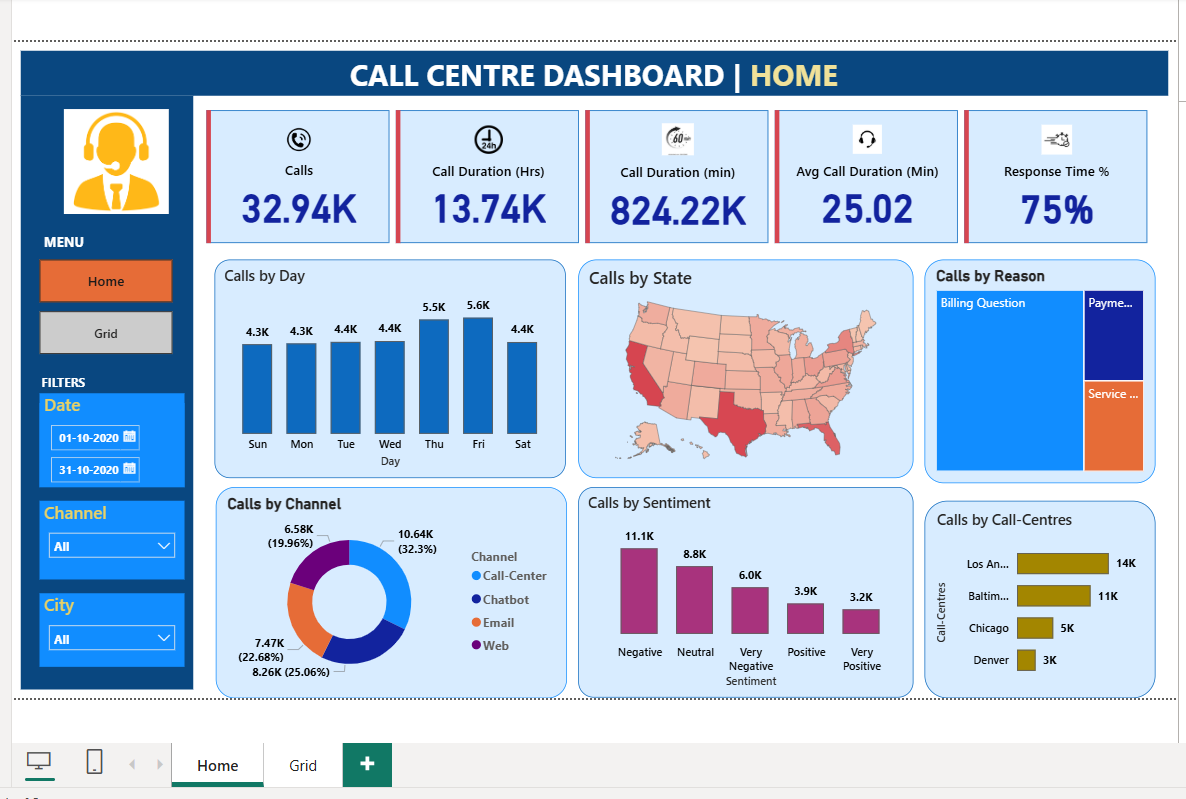

What the dashboard file says about the page in this screenshot:
{"tool":"powerbi","page":{"name":"Home","canvas":[1280,720],"ordinal":0},"visuals":[{"type":"shape","box":[9.6,9.6,1259.7,49.4],"z":0},{"type":"shape","box":[9.6,59,189.4,651.8],"z":1000},{"type":"cardVisual","fields":{"Data":["Call Center_Call Center.Total Calls","Call Center_Call Center.Total Call Duration","Call Center_Call Center.Total Call Duration (min)","Call Center_Call Center.Avg Call Duration (Min)","Call Center_Call Center.Response Time %"]},"box":[208.6,70,1047,156.4],"z":2000},{"type":"textbox","box":[338.9,9.6,599.7,68.6],"z":3000},{"type":"columnChart","title":"Calls by Day","fields":{"Category":["Date Table.Day"],"Y":["Call Center_Call Center.Total Calls"]},"box":[222.3,238.8,385.6,240.1],"z":4000},{"type":"shapeMap","title":"Calls by State","fields":{"Category":["Call Center_Call Center.State"],"Value":["Call Center_Call Center.Total Calls"]},"box":[621.6,238.8,367.8,240.1],"z":5000},{"type":"treemap","title":"Calls by Reason","fields":{"Group":["Call Center_Call Center.Reason"],"Values":["Call Center_Call Center.Total Calls"]},"box":[1001.7,238.8,253.9,245.6],"z":6000},{"type":"donutChart","title":"Calls by Channel","fields":{"Category":["Call Center_Call Center.Channel"],"Y":["Call Center_Call Center.Total Calls"]},"box":[223.7,488.5,385.6,231.9],"z":7000},{"type":"columnChart","title":"Calls by Sentiment","fields":{"Category":["Call Center_Call Center.Sentiment"],"Y":["Call Center_Call Center.Total Calls"]},"box":[622,489,368,231],"z":8000},{"type":"clusteredBarChart","title":"Calls by Call-Centres","fields":{"Category":["Call Center_Call Center.Call-Centres City"],"Y":["Call Center_Call Center.Total Calls"]},"box":[1001.7,503.6,253.9,216.8],"z":9000},{"type":"slicer","title":"Date","fields":{"Values":["Date Table.Date"]},"box":[30.2,396.6,159.2,91.9],"z":10000},{"type":"slicer","title":"Channel","fields":{"Values":["Call Center_Call Center.Channel"]},"box":[30.2,503.6,159.2,86.4],"z":11000},{"type":"slicer","title":"City","fields":{"Values":["Call Center_Call Center.City"]},"box":[30.2,605.1,159.2,81],"z":12000},{"type":"image","box":[52.1,28.8,124.9,204.5],"z":13000},{"type":"pageNavigator","box":[30.2,238.8,146.8,104.3],"z":14000},{"type":"textbox","box":[30.6,204.2,112.5,34.2],"z":15000},{"type":"textbox","box":[27.4,359.5,171.5,37],"z":16000},{"type":"slicer","title":"Date","fields":{"Values":["Date Table.Date"]},"box":[30.2,385.6,159.2,102.9],"z":17000}]}

Visuals, with their boxes on the page's 1280x720 design canvas (x1, y1, x2, y2). These are canvas units, not pixel positions in the 1186x799 screenshot, which may show the page scaled, cropped or inside an application window:
shape: {"x1": 10, "y1": 10, "x2": 1269, "y2": 59}
shape: {"x1": 10, "y1": 59, "x2": 199, "y2": 711}
cardVisual - Call Center_Call Center.Total Calls x Call Center_Call Center.Total Call Duration: {"x1": 209, "y1": 70, "x2": 1256, "y2": 226}
textbox: {"x1": 339, "y1": 10, "x2": 939, "y2": 78}
"Calls by Day" columnChart: {"x1": 222, "y1": 239, "x2": 608, "y2": 479}
"Calls by State" shapeMap: {"x1": 622, "y1": 239, "x2": 989, "y2": 479}
"Calls by Reason" treemap: {"x1": 1002, "y1": 239, "x2": 1256, "y2": 484}
"Calls by Channel" donutChart: {"x1": 224, "y1": 488, "x2": 609, "y2": 720}
"Calls by Sentiment" columnChart: {"x1": 622, "y1": 489, "x2": 990, "y2": 720}
"Calls by Call-Centres" clusteredBarChart: {"x1": 1002, "y1": 504, "x2": 1256, "y2": 720}
"Date" slicer: {"x1": 30, "y1": 397, "x2": 189, "y2": 488}
"Channel" slicer: {"x1": 30, "y1": 504, "x2": 189, "y2": 590}
"City" slicer: {"x1": 30, "y1": 605, "x2": 189, "y2": 686}
image: {"x1": 52, "y1": 29, "x2": 177, "y2": 233}
pageNavigator: {"x1": 30, "y1": 239, "x2": 177, "y2": 343}
textbox: {"x1": 31, "y1": 204, "x2": 143, "y2": 238}
textbox: {"x1": 27, "y1": 360, "x2": 199, "y2": 396}
"Date" slicer: {"x1": 30, "y1": 386, "x2": 189, "y2": 488}
